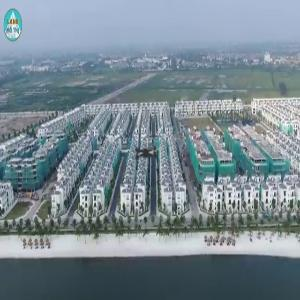drone: (117, 125, 175, 183)
